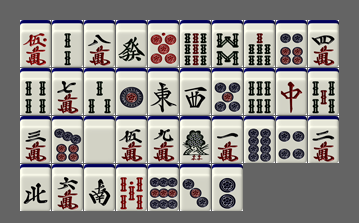0m: (20, 20, 51, 67)
0p: (148, 20, 179, 67)
0s: (116, 164, 147, 211)
1m: (212, 116, 243, 163)
1p: (116, 68, 147, 115)
1s: (180, 116, 211, 163)
1z: (148, 68, 179, 115)
2m: (308, 116, 339, 163)
2p: (212, 164, 243, 211)
2s: (52, 20, 83, 67)
2z: (84, 164, 115, 211)
3m: (20, 116, 51, 163)
3p: (180, 164, 211, 211)
3s: (84, 68, 115, 115)
3z: (180, 68, 211, 115)
4m: (308, 20, 339, 67)
4p: (276, 116, 307, 163)
4s: (20, 68, 51, 115)
4z: (20, 164, 51, 211)
5m: (116, 116, 147, 163)
5p: (212, 68, 243, 115)
5s: (308, 68, 339, 115)
5z: (84, 116, 115, 163)
6m: (52, 164, 83, 211)
6p: (276, 20, 307, 67)
6s: (244, 68, 275, 115)
6z: (116, 20, 147, 67)
7m: (52, 68, 83, 115)
7p: (52, 116, 83, 163)
7s: (244, 20, 275, 67)
7z: (276, 68, 307, 115)
8m: (84, 20, 115, 67)
8p: (244, 116, 275, 163)
8s: (212, 20, 243, 67)
9m: (148, 116, 179, 163)
9p: (148, 164, 179, 211)
9s: (180, 20, 211, 67)
